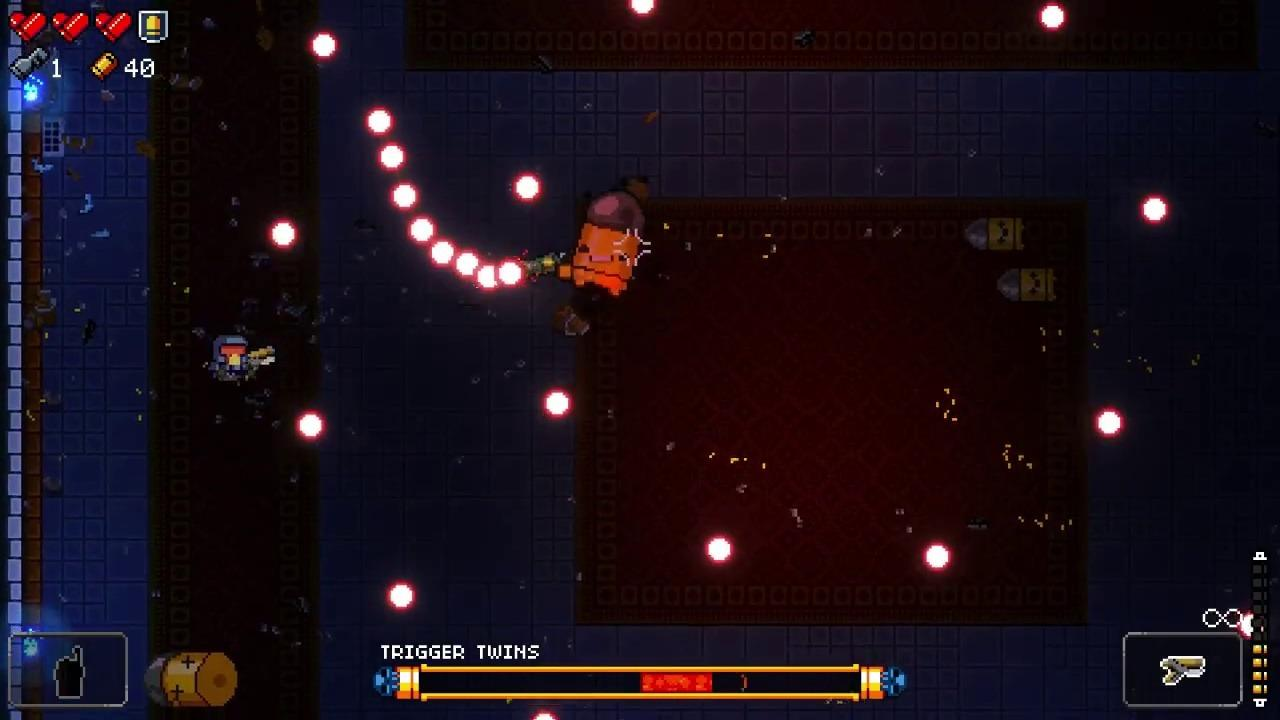boss_smiley: (574, 185, 641, 300)
bullet: (490, 260, 528, 291), (541, 387, 573, 419), (307, 30, 340, 61), (921, 540, 952, 573), (363, 106, 395, 137), (267, 219, 300, 249), (407, 216, 437, 248), (376, 142, 407, 172), (706, 534, 734, 567), (297, 412, 327, 442), (390, 578, 415, 614), (514, 171, 543, 202), (1095, 410, 1123, 439), (1140, 195, 1168, 224), (1039, 5, 1067, 34), (451, 252, 481, 278), (475, 264, 500, 293), (431, 240, 456, 268), (392, 186, 417, 209), (626, 0, 657, 16)
dead_boss_shades: (141, 649, 239, 708)
dead_bullet_kin: (964, 217, 1027, 253), (998, 270, 1056, 305)
player: (210, 336, 251, 387)
